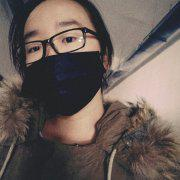OK: (29, 15, 101, 118)
